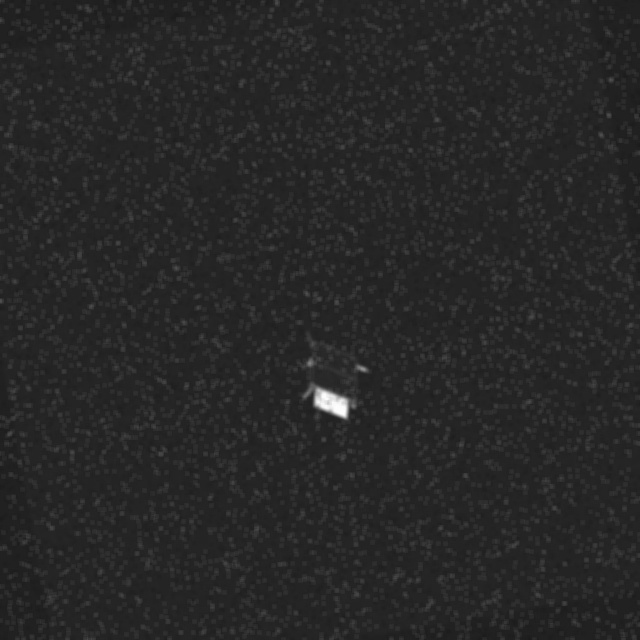medium_debris: (286, 348, 386, 424)
